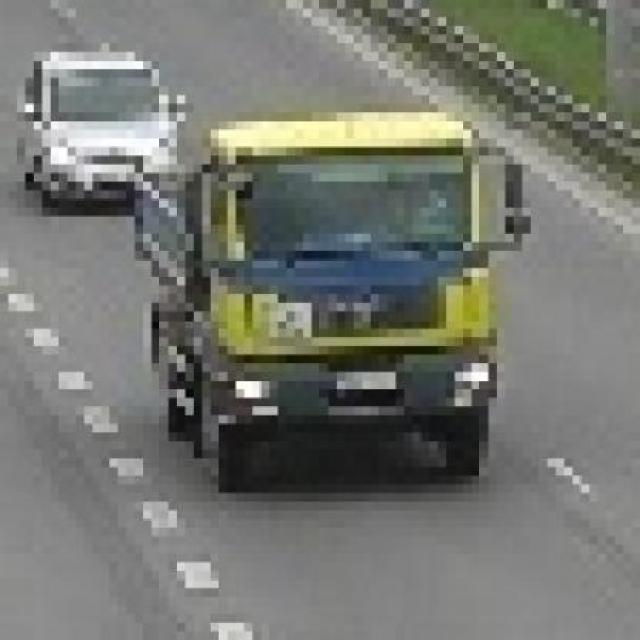truck: (152, 96, 532, 468)
